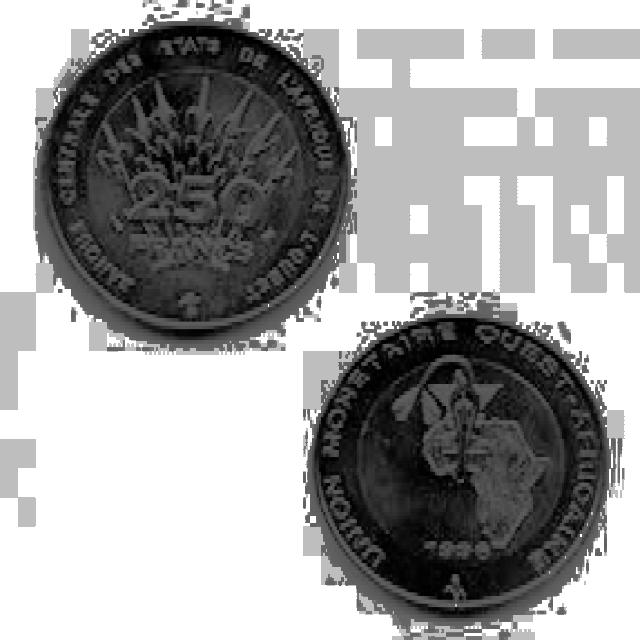juroom fukk: (41, 25, 347, 329), (314, 318, 606, 610)
